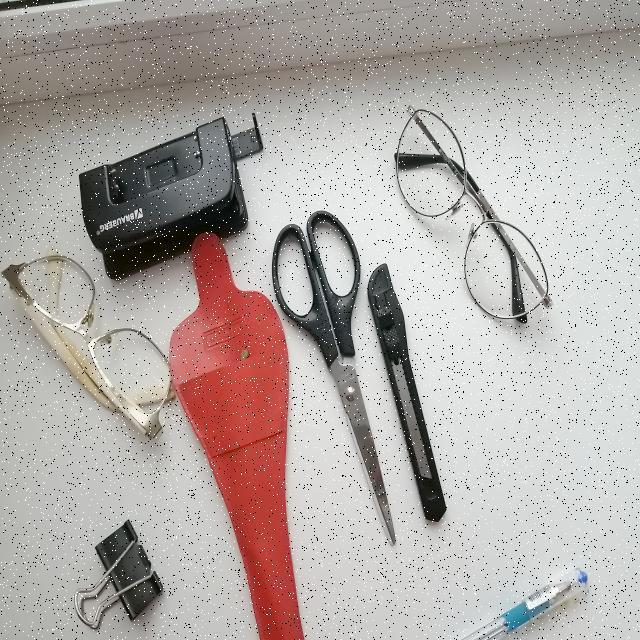scissors: (262, 190, 416, 577)
